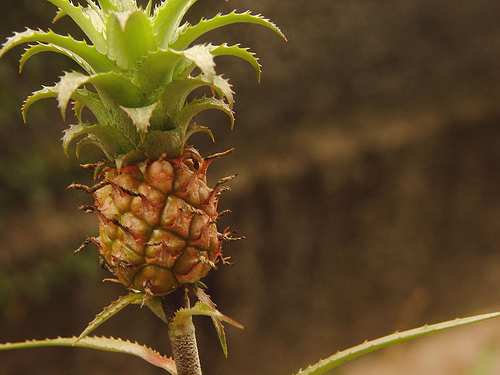pineapple: (0, 0, 288, 301)
